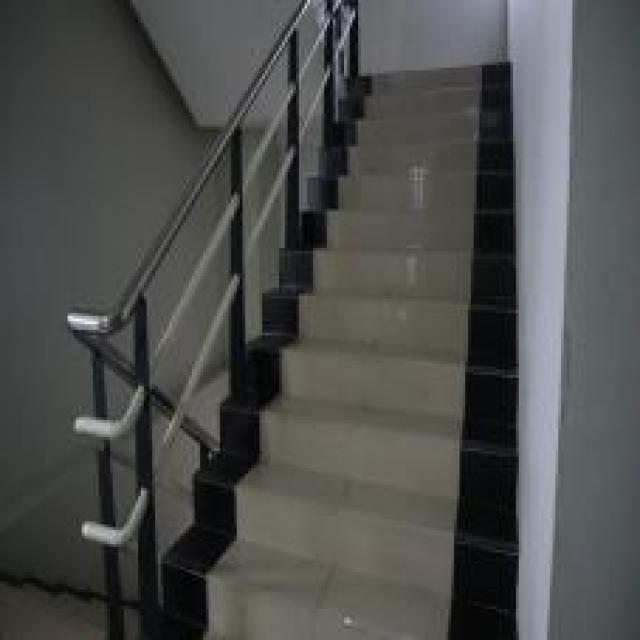upstair: (322, 190, 520, 638)
